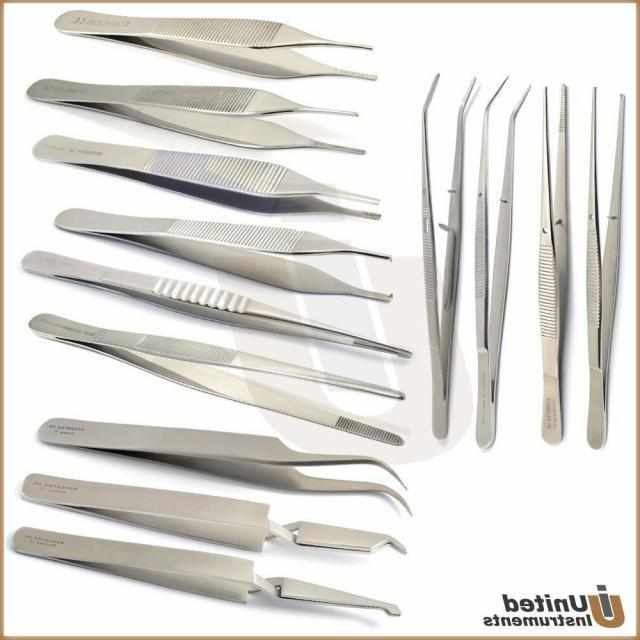Forceps: (27, 311, 405, 444), (19, 250, 415, 362), (35, 416, 415, 518), (52, 206, 396, 305), (31, 135, 382, 222), (26, 77, 367, 157), (52, 8, 383, 84), (470, 75, 536, 452), (419, 72, 479, 442), (582, 87, 628, 454), (535, 81, 575, 448)
